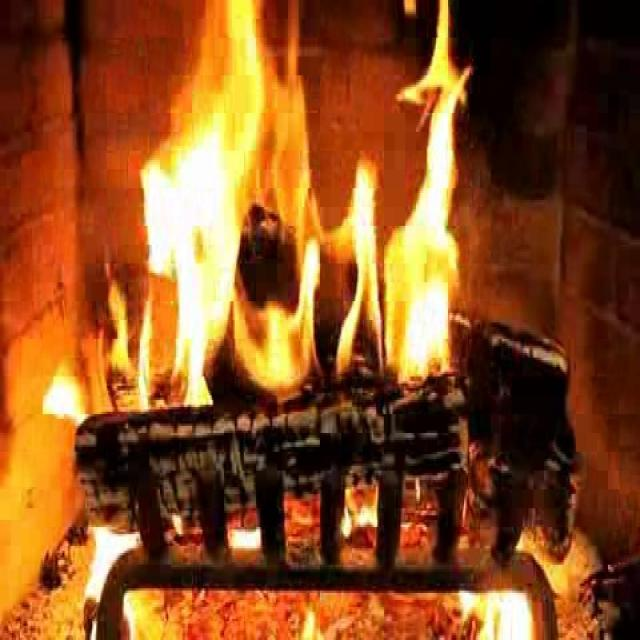Fire: (140, 0, 458, 412)
